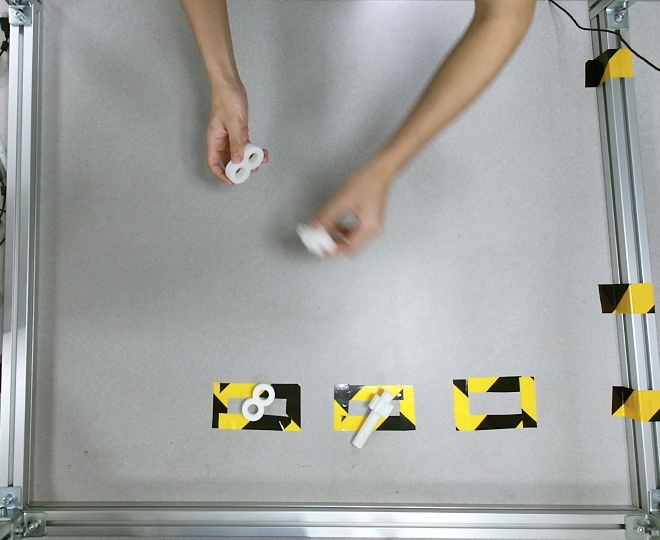stage_1: (226, 143, 264, 183)
